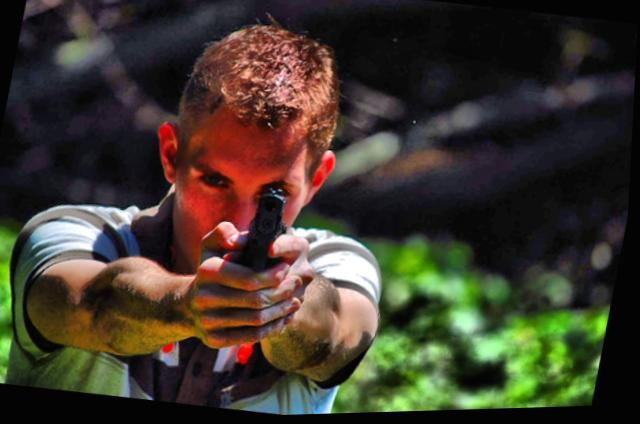pistol: (245, 185, 295, 273)
